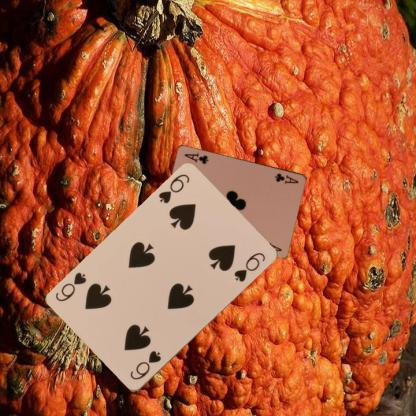6s: (127, 348, 162, 382), (156, 172, 191, 206)
Ac: (272, 170, 300, 185)
